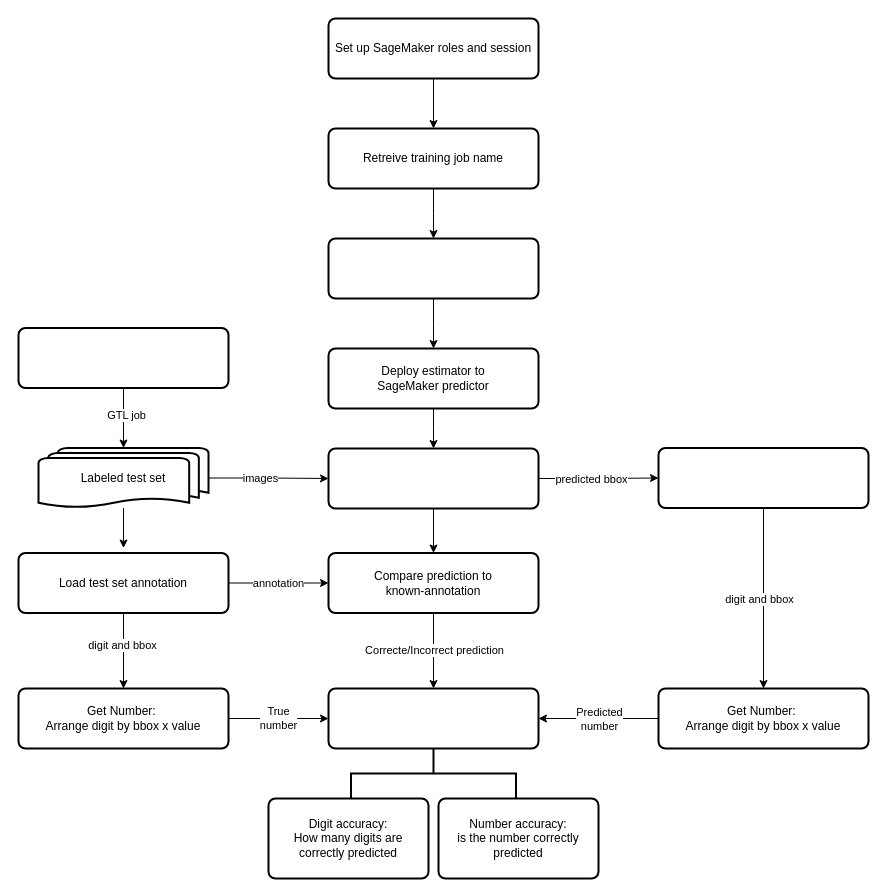
This 886x896 diagram has some shape labels left out. Here are the shapes that lost their labels. From the top down, the centre of each, then its label:
the point at 433,268: Attach training job to estimator
the point at 123,357: Split the dataset into training and test set
the point at 433,478: Make predictions on each data in test set
the point at 763,477: Visualise prediction (Plot bbox)
the point at 433,718: Analyse accuracy (digit and number)
